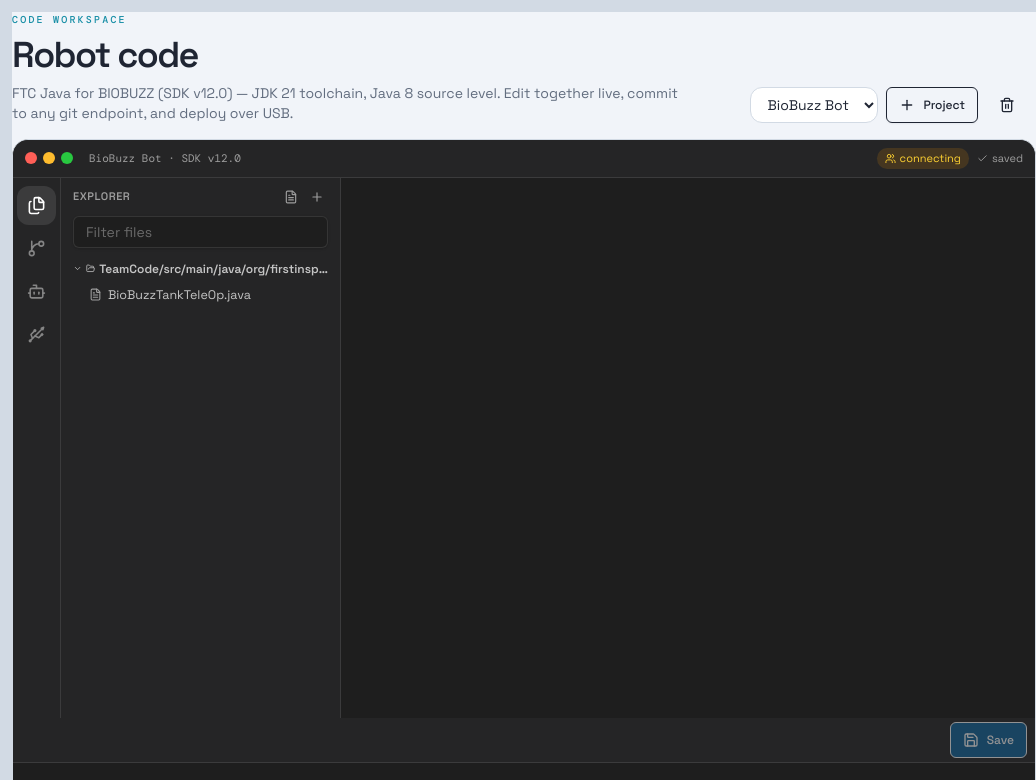
Test case: code workspace › opens the git pane with endpoint, history, and commit controls
Click the button with test id "code-side-git": click(36, 248) x1=17 y1=228 x2=56 y2=268
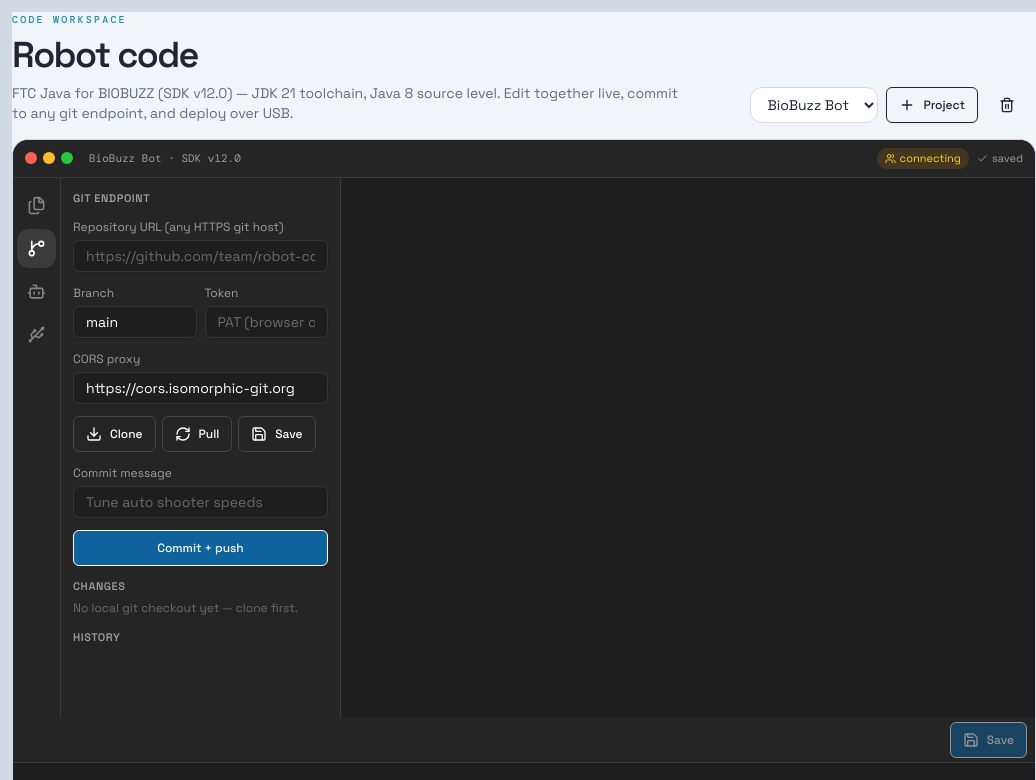
Expected: the field with test id "code-git-url" is shown, x1=73 y1=240 x2=328 y2=272
Expected: the button with test id "code-git-clone" is shown, x1=73 y1=416 x2=156 y2=452
Expected: the button with test id "code-git-commit-push" is shown, x1=73 y1=530 x2=328 y2=566
